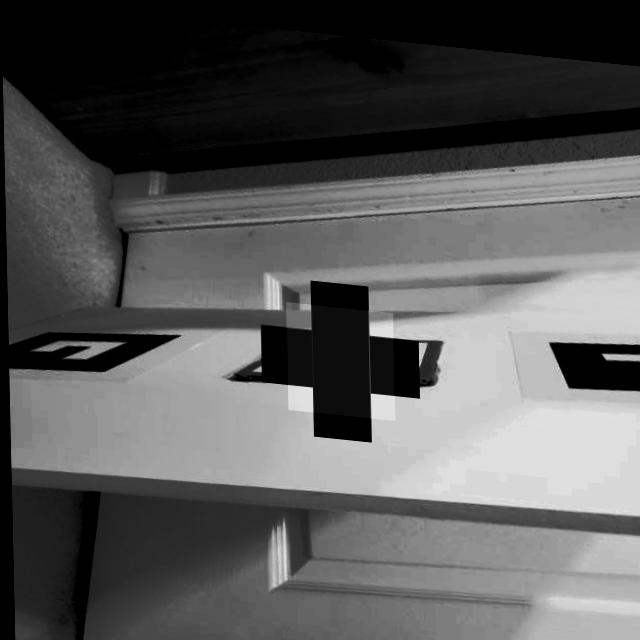qr_code: (284, 296, 393, 413)
